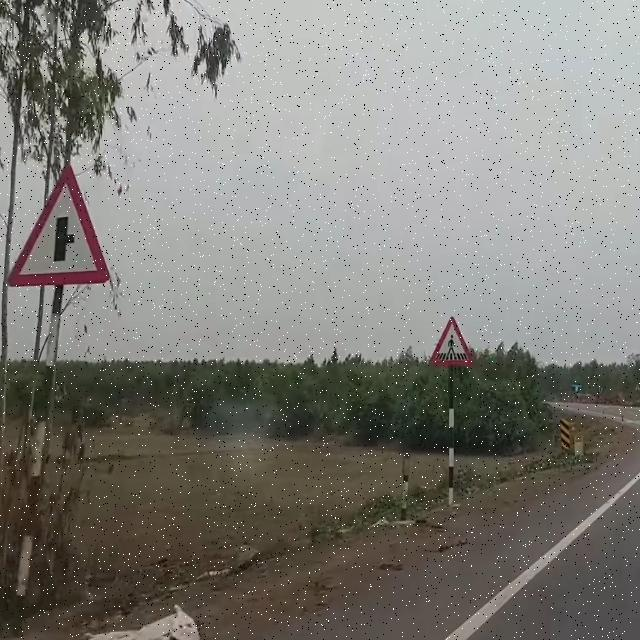Pedestrain_crossing: (428, 320, 474, 370)
Sideroad_toright: (7, 158, 114, 285)
